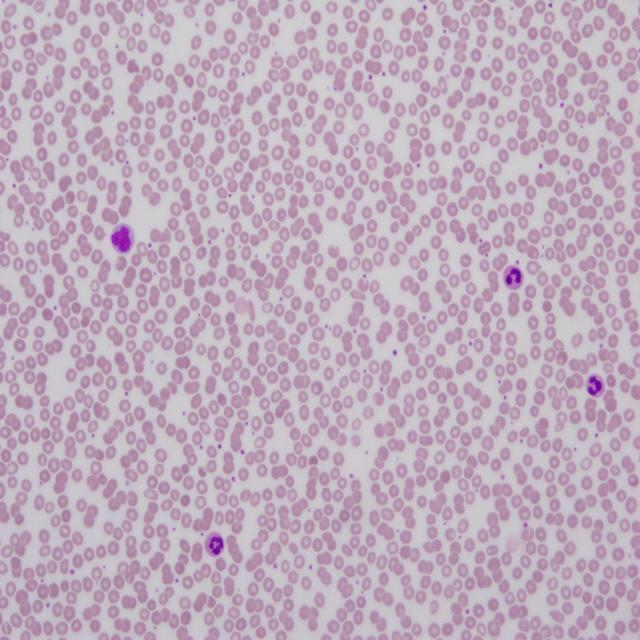cell: (504, 265, 524, 290), (205, 532, 224, 556), (586, 375, 605, 397)
